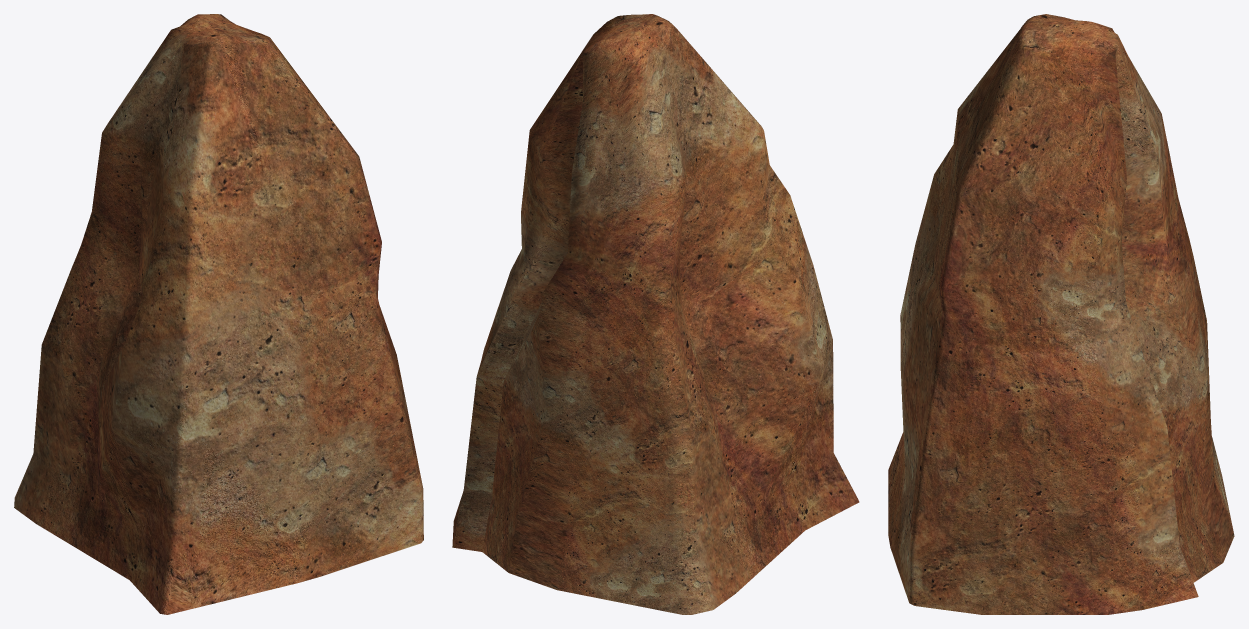
File: TallRock_01.fbx
3 views of the same model, side by side, from view 1: azimuth 30°, elevation 25°; view 2: azimuth 150°, elevation 25°; view 3: azimuth 270°, elevation 25° (orthographic). The views are drawn at different scales.
Parts seen in each view (by area): view 1: Tall_Rock; view 2: Tall_Rock; view 3: Tall_Rock.
Boxes of the visible parts, box(x1,y1,x2,y2) form: Tall_Rock: box(14, 14, 423, 614); Tall_Rock: box(452, 14, 859, 614); Tall_Rock: box(888, 14, 1234, 614).
Bounding box in the file's own units: 4.88 × 7.8 × 4.76.
